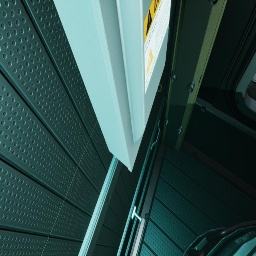SafetySwitchPanel ,: (53, 0, 172, 172)
